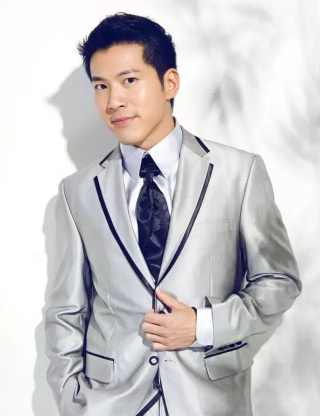male: (70, 7, 198, 156)
